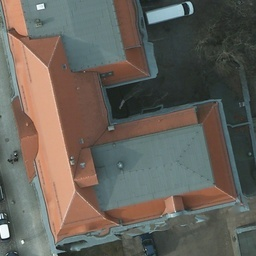car: (0, 212, 12, 244), (135, 0, 164, 9), (0, 174, 5, 204)
van: (144, 3, 194, 33)
